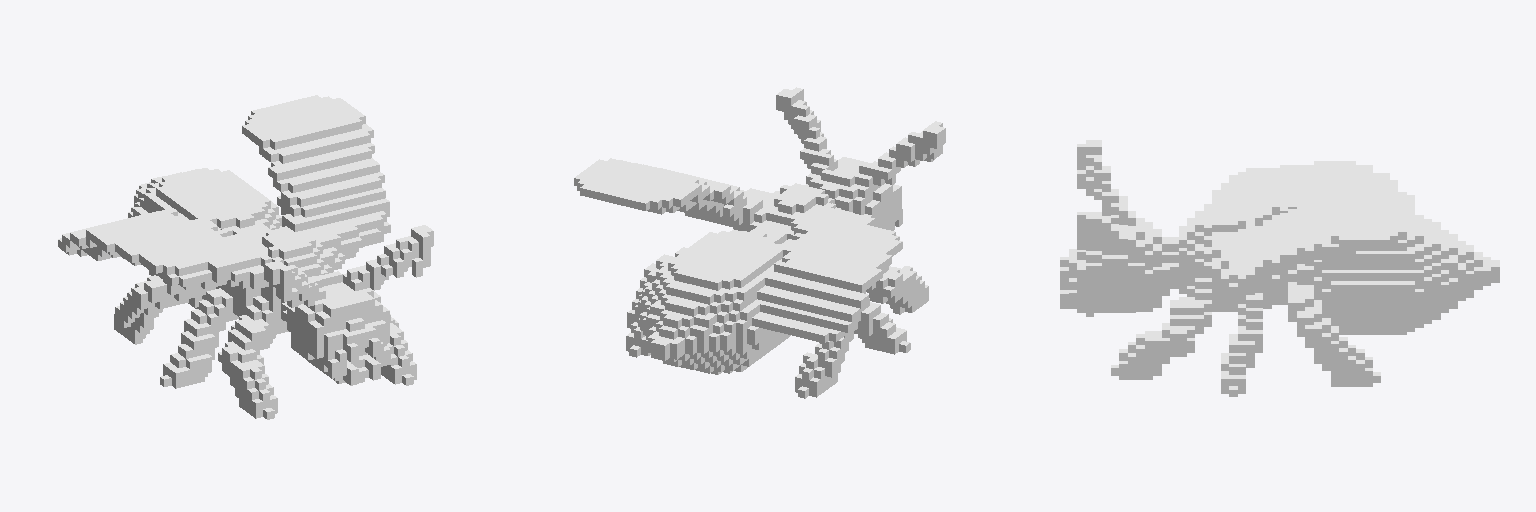
File: wasp_fly_v2.0-5.obj
3 views of the same model, side by side, from view 1: azimuth 30°, elevation 25°; view 2: azimuth 150°, elevation 25°; view 3: azimuth 270°, elevation 25° (orthographic).
Parts seen in each view (by area): view 1: object 1; view 2: object 1; view 3: object 1.
Boxes of the visible parts, x1=… form: object 1: x1=58, y1=95, x2=433, y2=419; object 1: x1=574, y1=87, x2=945, y2=398; object 1: x1=1060, y1=140, x2=1499, y2=396.
Bounding box in the file's own units: 3.8 × 2.2 × 5.2.